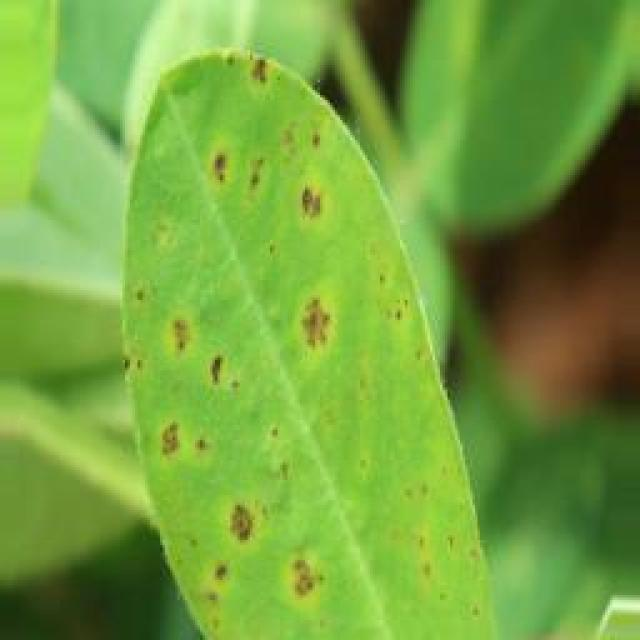Sigatoka: (182, 476, 334, 634), (125, 276, 249, 458), (362, 440, 479, 614), (180, 134, 350, 237), (172, 23, 288, 103), (284, 259, 356, 379)
